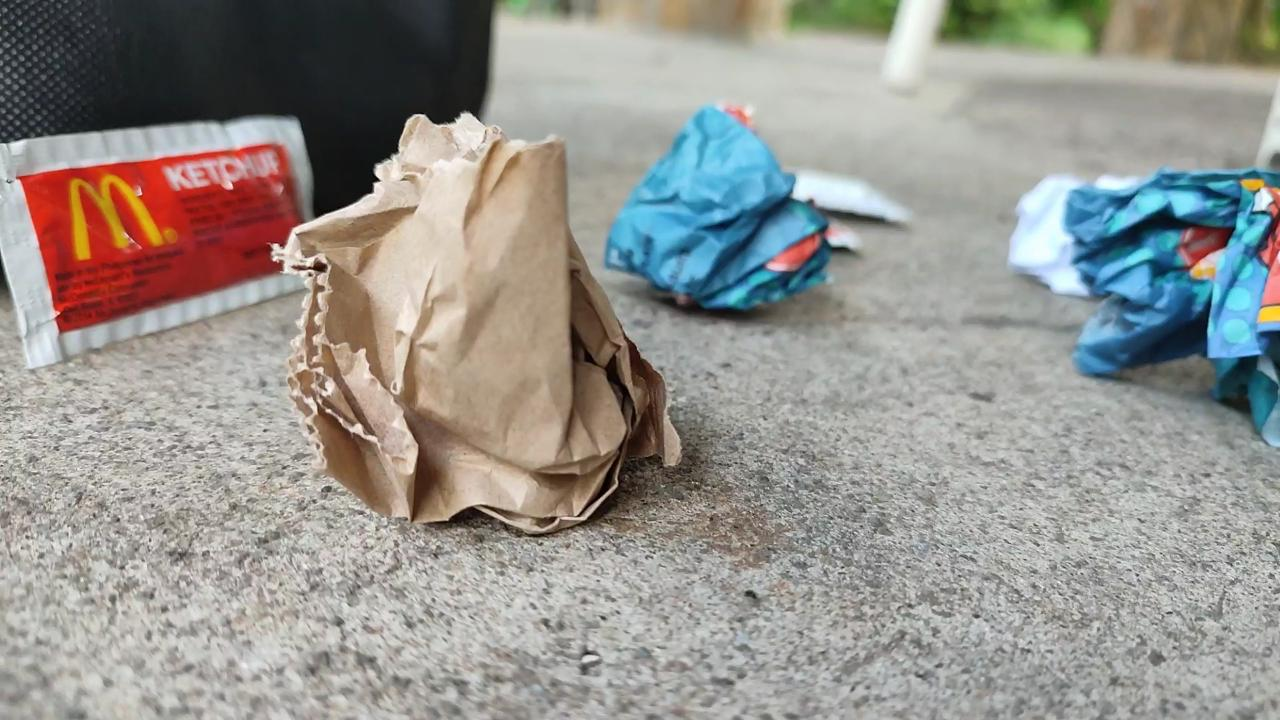paper: (269, 94, 708, 536), (592, 75, 844, 335), (1057, 149, 1280, 440)
